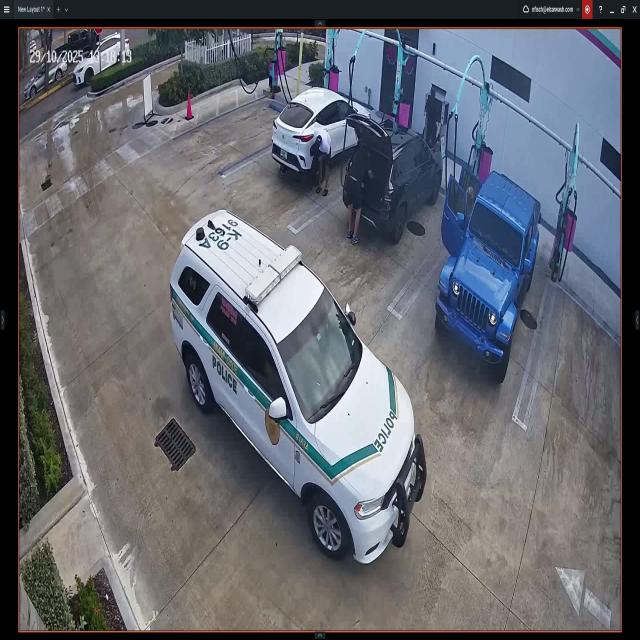Car: (170, 212, 426, 563), (433, 158, 542, 385), (340, 113, 443, 243), (272, 79, 372, 183)
